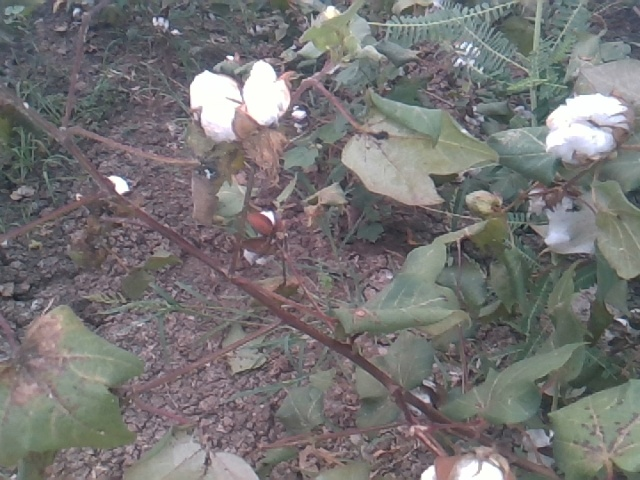cotton: (187, 58, 293, 146), (542, 92, 630, 167), (527, 181, 592, 248), (240, 208, 286, 268), (420, 456, 509, 480), (521, 426, 569, 467), (103, 172, 136, 206), (410, 383, 436, 416)
